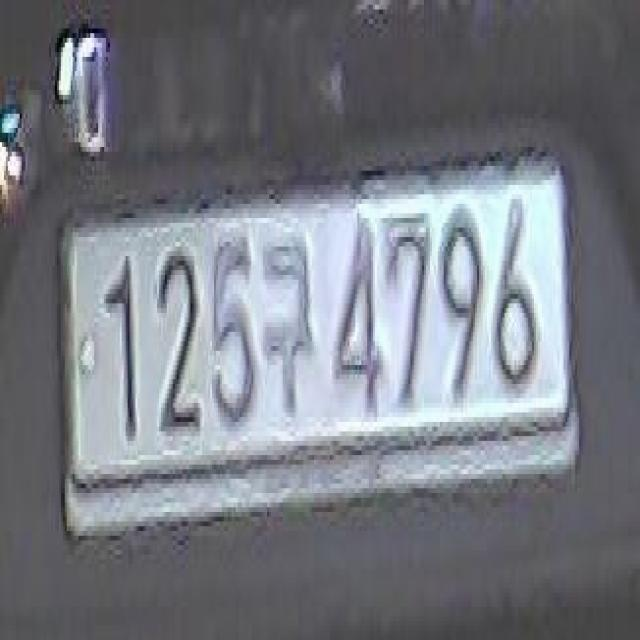illegal_plate: (62, 146, 574, 526)
